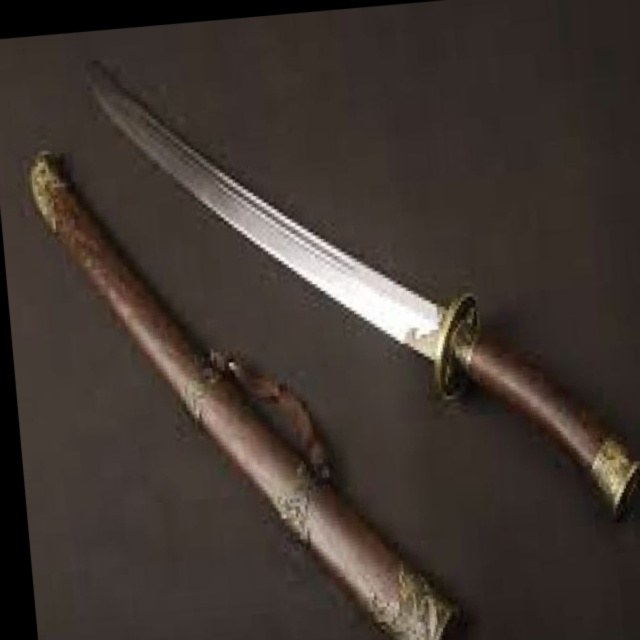Sharp-Object: (83, 11, 640, 549)
